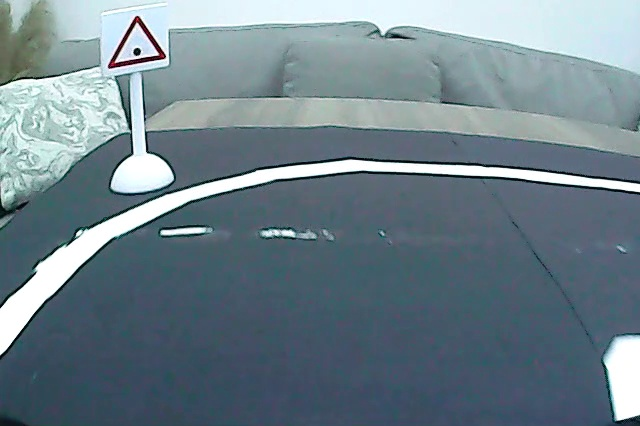green light: (105, 11, 170, 71)
